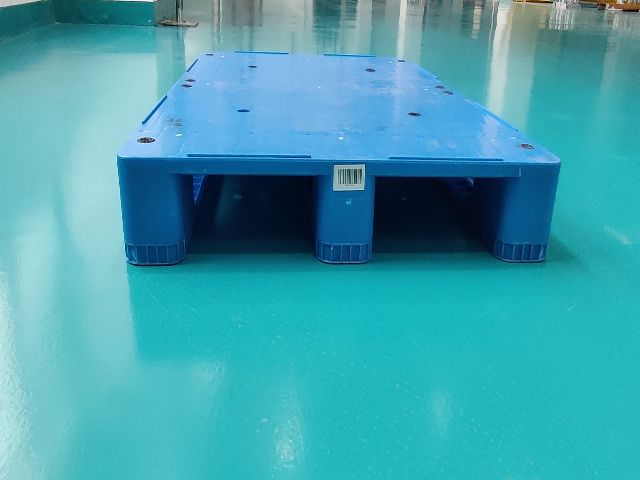block: (116, 156, 180, 261), (497, 161, 561, 262), (318, 160, 372, 259)
front: (116, 156, 560, 263)
hole pallet: (171, 177, 325, 262), (371, 176, 513, 260)
